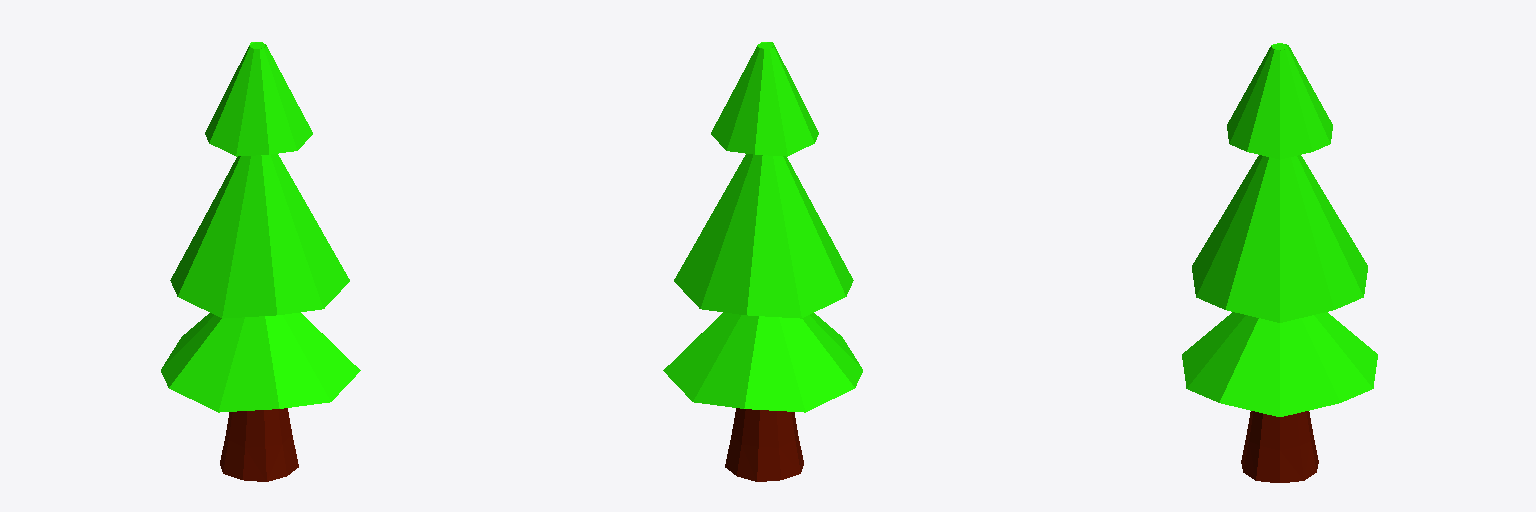
File: LowPolyTree01.obj
The picture shows the model from 3 angles: view 1: azimuth 30°, elevation 25°; view 2: azimuth 150°, elevation 25°; view 3: azimuth 270°, elevation 25°; orthographic projection.
Parts seen in each view (by area): view 1: Icosphere; view 2: Icosphere; view 3: Icosphere.
Part boxes in pixels (left/top/right/bottom): Icosphere: left=161, top=42, right=360, bottom=481; Icosphere: left=663, top=42, right=862, bottom=481; Icosphere: left=1182, top=43, right=1377, bottom=482.
Size of the model in its own units: 0.8633 by 1.99 by 0.8416.